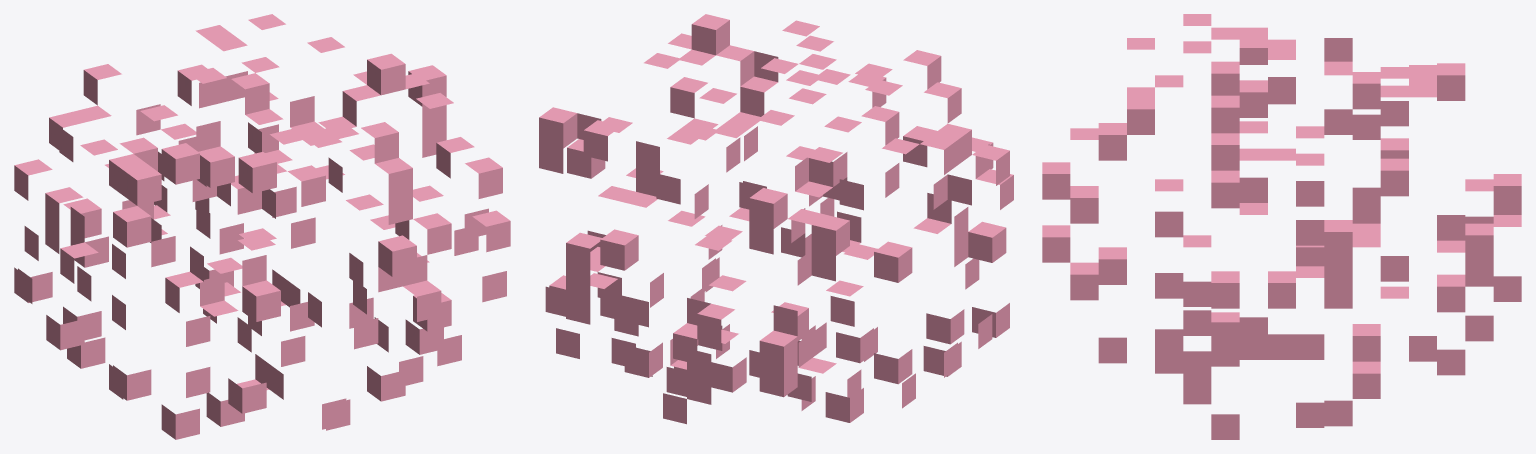
File: tree-cherry-1p25-pink1-ffa8c4.gltf
3 renders of one model, left to right at view 1: azimuth 30°, elevation 25°; view 2: azimuth 150°, elevation 25°; view 3: azimuth 270°, elevation 25°, orthographic.
Visible parts, largest first — view 1: tree-cherry-1p25-pink1-ffa8c4; view 2: tree-cherry-1p25-pink1-ffa8c4; view 3: tree-cherry-1p25-pink1-ffa8c4.
Part boxes in pixels (<box>): tree-cherry-1p25-pink1-ffa8c4: <box>14,14,510,439</box>; tree-cherry-1p25-pink1-ffa8c4: <box>539,14,1013,424</box>; tree-cherry-1p25-pink1-ffa8c4: <box>1042,14,1521,439</box>.
Bounding box in the file's own units: 17 × 13 × 17.
